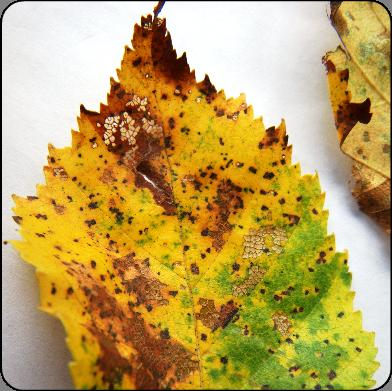black-spot: (254, 272, 341, 391)
